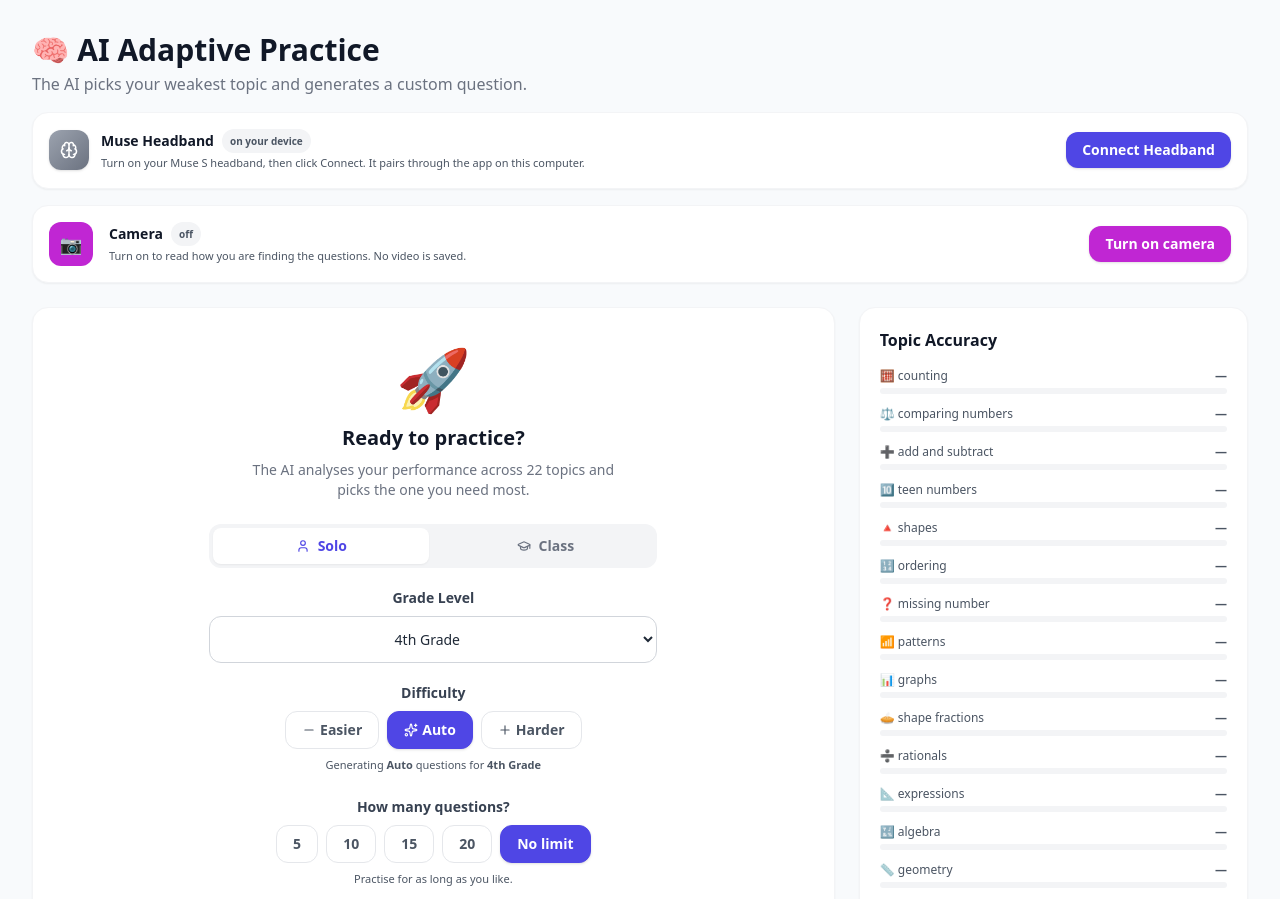
ignores an answer that lands after a newer one
What coordinates should you click on to do the following:
click the button "Turn on camera"
I would click on:
 (1160, 244)
Its box is [1090,226,1231,262].
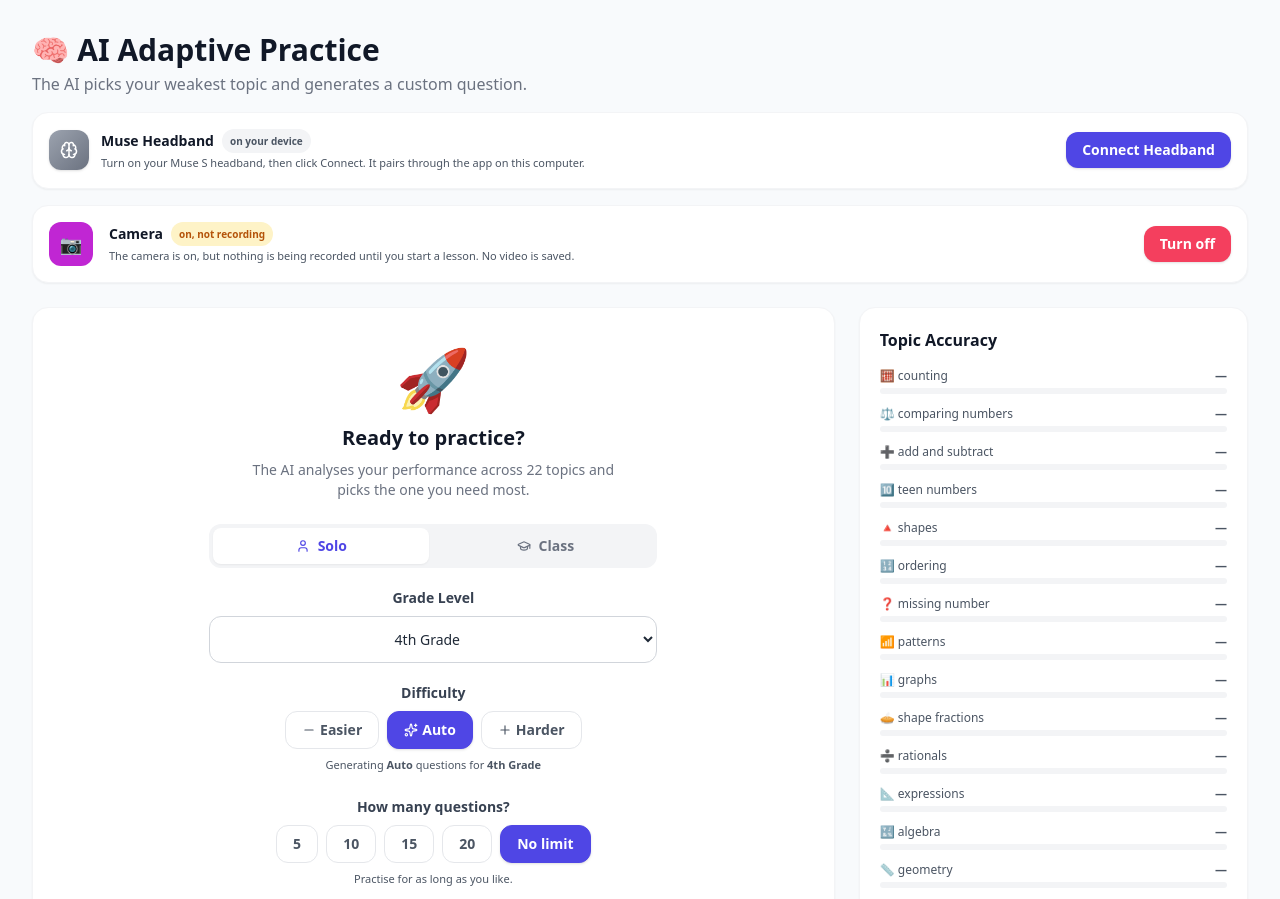
Expected: the button "Turn off" is shown, [1144,226,1231,262]
